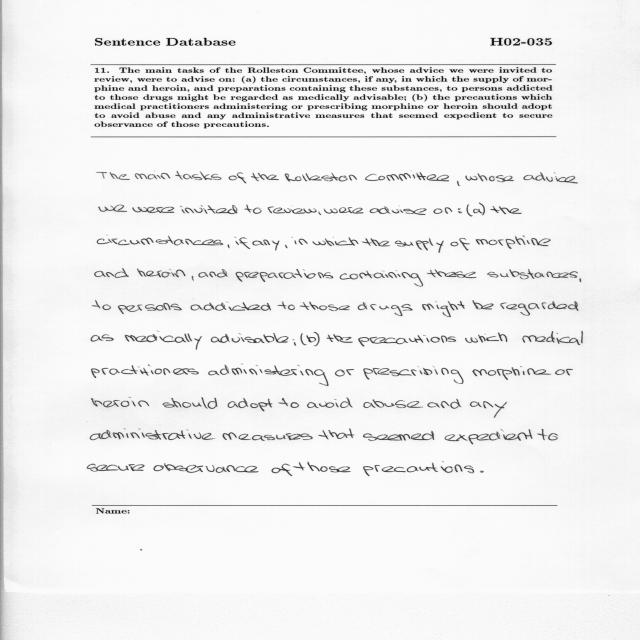word: (208, 365, 329, 386), (364, 366, 464, 384), (363, 462, 474, 476), (340, 270, 423, 287), (91, 365, 199, 378), (90, 429, 215, 440), (445, 429, 533, 444), (125, 333, 202, 350), (236, 269, 333, 282), (98, 236, 224, 246), (500, 301, 579, 316), (358, 335, 456, 347), (472, 366, 551, 380), (153, 463, 259, 473), (476, 236, 551, 249), (487, 269, 578, 279), (522, 331, 583, 345), (222, 432, 313, 441), (211, 333, 289, 343), (358, 302, 413, 316), (365, 173, 449, 182), (395, 238, 444, 253), (191, 302, 271, 311), (363, 431, 434, 441), (118, 303, 182, 314), (422, 301, 465, 317), (163, 397, 218, 409), (285, 173, 357, 182), (293, 462, 351, 473), (470, 401, 507, 418), (523, 173, 578, 184), (228, 398, 273, 411), (92, 398, 150, 408), (364, 399, 424, 408), (180, 205, 238, 214), (307, 398, 353, 409), (87, 464, 145, 472), (465, 332, 507, 343), (299, 302, 350, 311), (427, 270, 477, 279), (465, 173, 514, 182), (137, 269, 186, 278), (176, 171, 222, 180), (313, 237, 359, 246), (318, 429, 355, 440), (268, 207, 317, 214), (95, 268, 129, 278), (427, 399, 461, 409), (253, 240, 280, 251), (324, 207, 364, 214), (198, 269, 228, 278), (97, 172, 130, 180), (490, 206, 522, 214), (132, 207, 174, 213), (272, 464, 293, 476), (392, 208, 427, 215), (450, 238, 470, 250), (467, 203, 485, 216), (537, 429, 558, 440), (251, 173, 279, 181), (362, 238, 390, 246), (135, 173, 170, 179), (279, 398, 300, 408), (229, 173, 247, 184), (472, 301, 494, 310), (99, 205, 127, 212), (234, 237, 250, 249), (92, 300, 111, 310), (91, 334, 114, 342), (307, 332, 320, 346), (333, 334, 353, 343), (370, 206, 391, 214), (244, 205, 262, 214), (277, 301, 295, 310), (335, 369, 354, 377), (291, 237, 308, 245), (555, 369, 573, 375), (301, 334, 307, 346), (433, 208, 443, 214), (327, 334, 334, 342), (445, 207, 452, 214), (293, 339, 296, 346), (458, 208, 462, 213), (457, 181, 460, 186), (191, 276, 194, 281), (318, 212, 321, 215), (285, 245, 288, 248), (228, 245, 230, 249), (579, 278, 581, 282), (480, 471, 483, 473)
